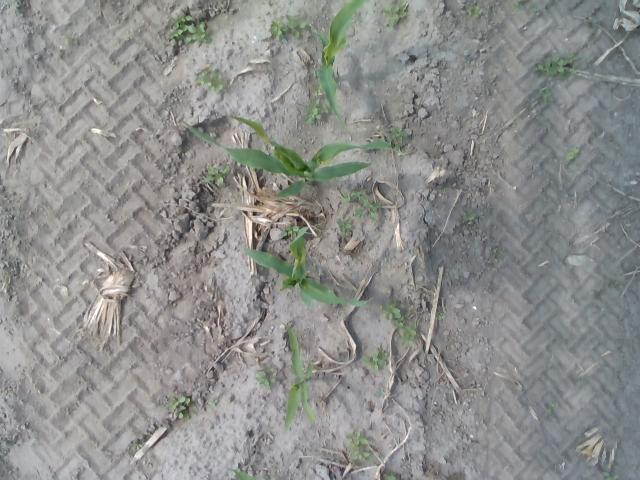Maize: (178, 114, 404, 198), (238, 227, 374, 308), (318, 1, 364, 124), (280, 322, 318, 432), (226, 466, 266, 480)
Weeds: (168, 16, 212, 46), (345, 189, 379, 219), (534, 54, 569, 74), (167, 394, 191, 420), (283, 14, 305, 38), (203, 164, 229, 184), (362, 350, 387, 370), (198, 72, 223, 90), (346, 430, 368, 450), (384, 3, 404, 25), (398, 320, 414, 346), (268, 21, 287, 38), (391, 126, 406, 146), (256, 368, 270, 388), (384, 302, 399, 320), (348, 450, 369, 461), (338, 215, 353, 230), (536, 88, 552, 102), (566, 147, 579, 161), (468, 7, 483, 18), (280, 226, 298, 235), (461, 212, 475, 222), (132, 442, 142, 452), (384, 474, 398, 480), (610, 280, 618, 288), (492, 248, 499, 257), (208, 399, 218, 405), (437, 313, 445, 320), (550, 402, 558, 407)
